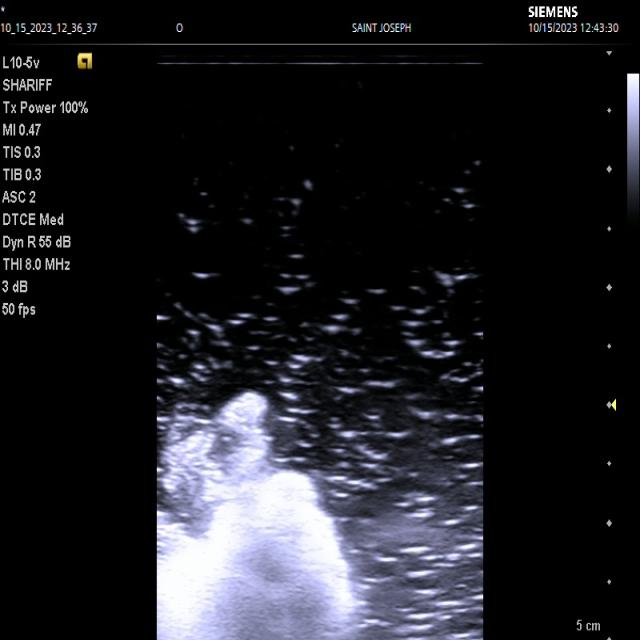tissue: (158, 395, 365, 640)
